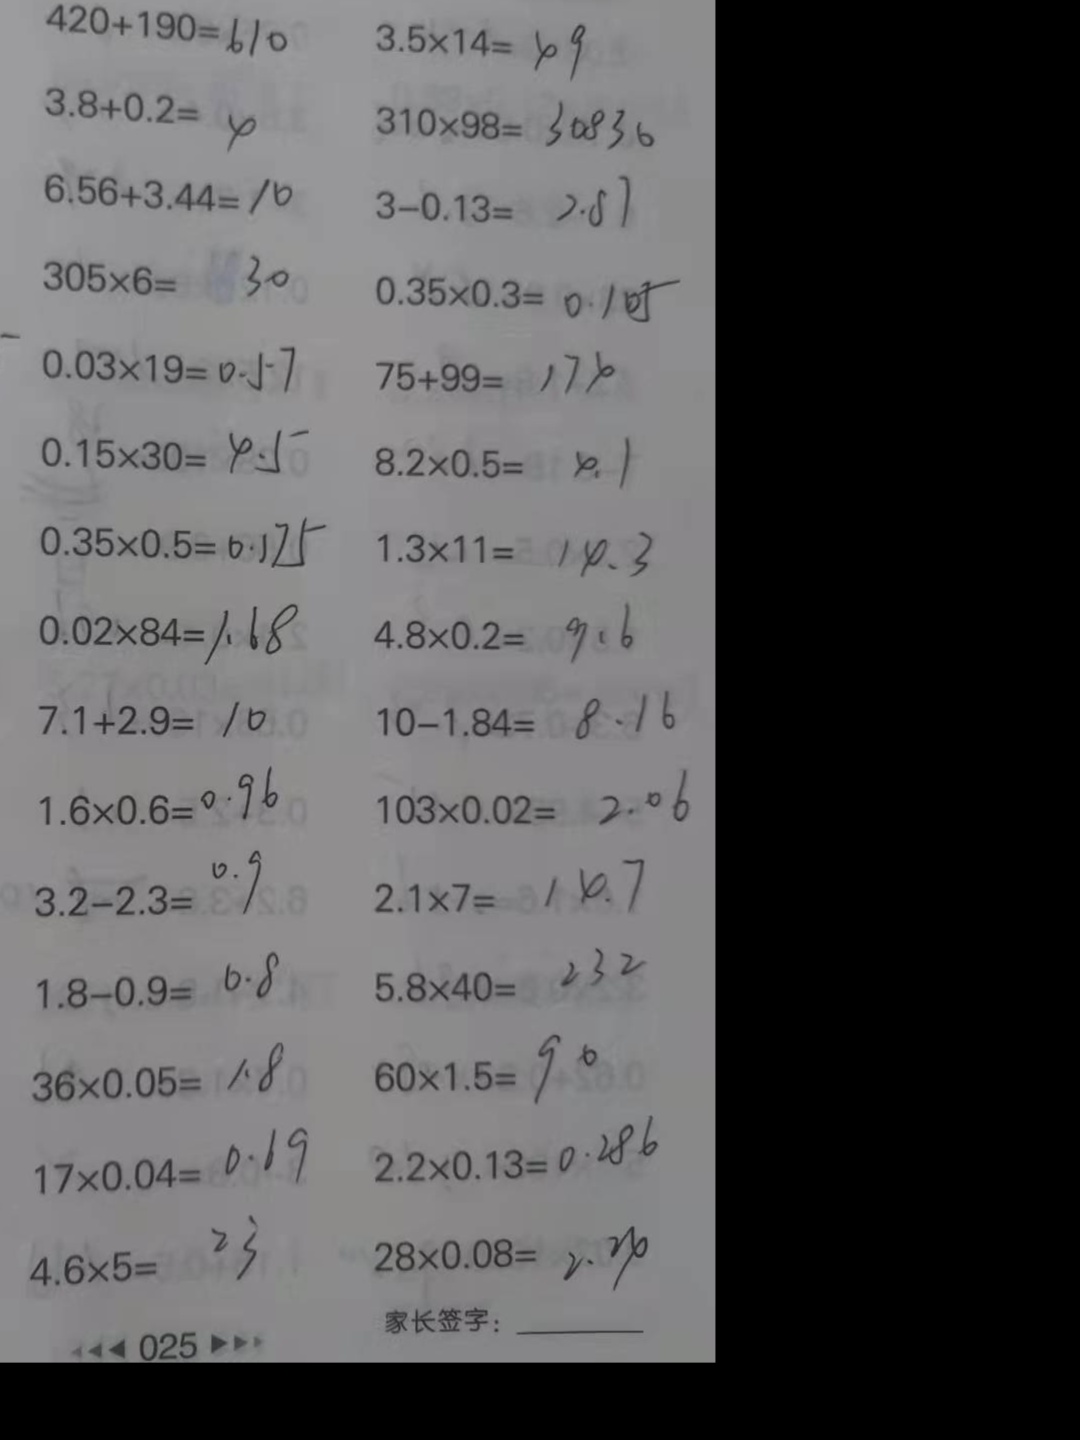equation: (27, 1117, 328, 1202), (364, 1217, 653, 1304), (12, 1205, 289, 1291), (368, 252, 686, 324), (361, 1111, 670, 1185), (25, 594, 314, 672), (364, 416, 646, 495), (28, 501, 336, 573), (378, 769, 703, 836), (363, 938, 655, 1011), (364, 1025, 601, 1115), (360, 523, 676, 590), (361, 3, 606, 90), (357, 163, 641, 237), (24, 846, 286, 925), (363, 679, 690, 743), (23, 1033, 289, 1110), (369, 854, 657, 924), (25, 329, 311, 399), (25, 754, 289, 830), (368, 96, 676, 160), (27, 941, 288, 1015), (366, 601, 658, 667), (24, 416, 319, 481), (364, 330, 624, 399), (33, 158, 301, 225), (35, 75, 270, 151), (22, 242, 299, 305), (33, 0, 301, 59), (26, 694, 282, 746), (0, 317, 33, 387)
